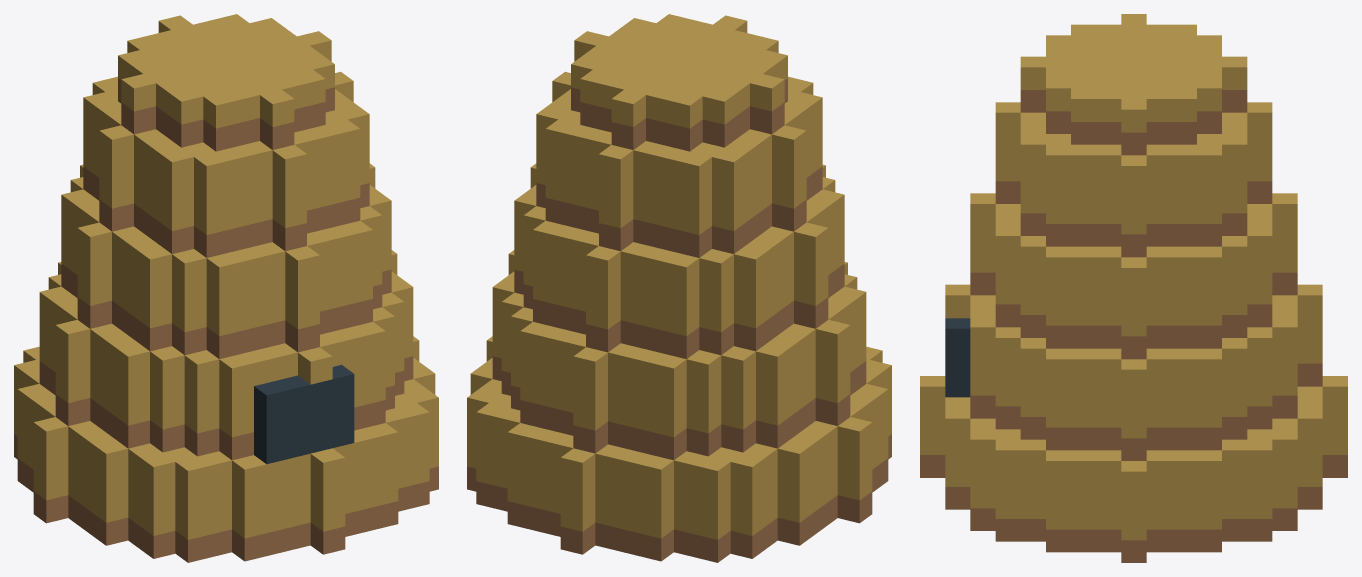
The model's file is agriculture-07.glb.
The picture shows the model from 3 angles, left to right: view 1: azimuth 30°, elevation 25°; view 2: azimuth 150°, elevation 25°; view 3: azimuth 270°, elevation 25°; orthographic projection.
Visible parts, largest first — view 1: Bee hive; view 2: Bee hive; view 3: Bee hive.
Part boxes in pixels (x1,y1,x2,y2): Bee hive: (14,14,438,562); Bee hive: (467,14,891,562); Bee hive: (920,14,1347,562).
Bounding box in the file's own units: 1.36 × 1.44 × 1.36.
